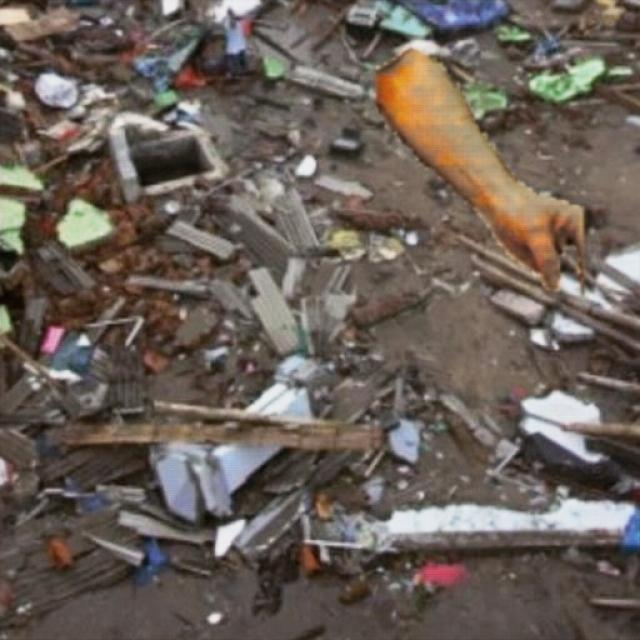Person in Rubble: (377, 47, 582, 295)
